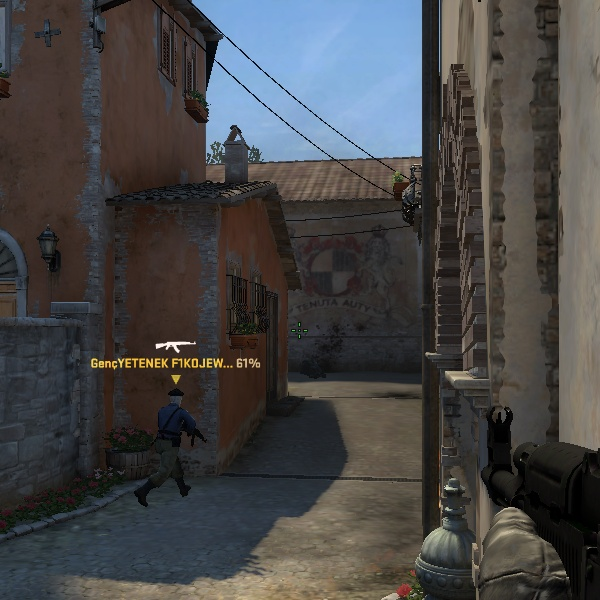t_body: (138, 386, 204, 501)
